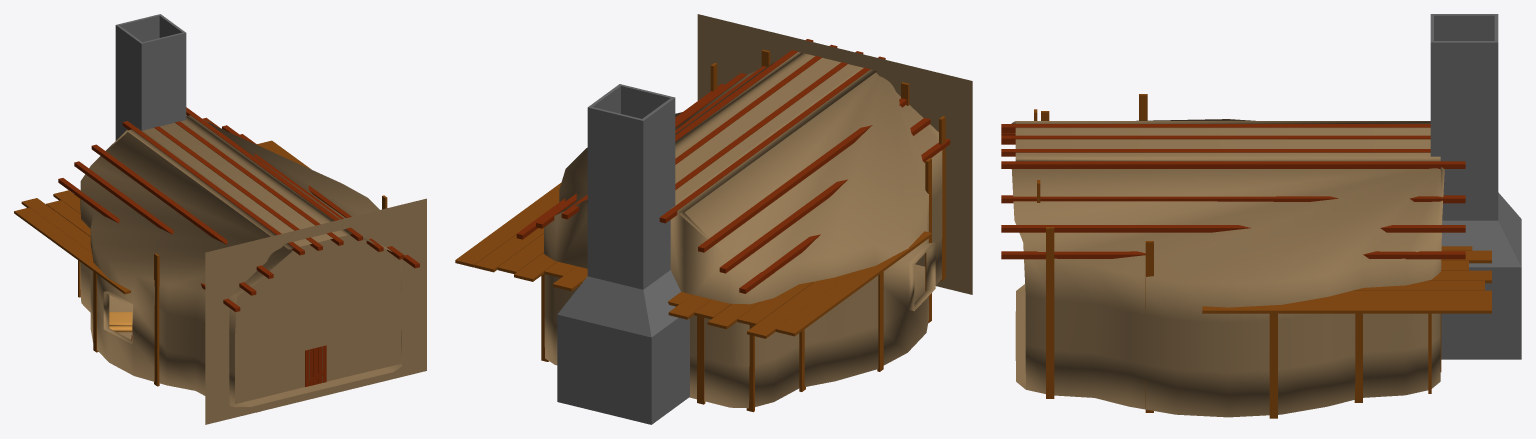
File: Maison_Bertie_Intérieur.fbx
3 views of the same model, side by side, from view 1: azimuth 30°, elevation 25°; view 2: azimuth 150°, elevation 25°; view 3: azimuth 270°, elevation 25° (orthographic). The views are drawn at different scales.
Visible parts, largest first — view 1: Murs, Murs.001, Cube, Porte.038, Porte.015, Porte.016, Porte.007, Porte.037, Porte.018, Porte.012, Porte.013, Porte.047 (+4 smaller); view 2: Murs, Cube, Murs.001, Porte.038, Porte.022, Porte.015, Porte.037, Porte.016, Porte.018, Porte.012, Porte.021, Porte.013 (+16 smaller); view 3: Murs, Cube, Porte.007, Porte.022, Porte.019, Porte.014, Porte.012, Porte.020, Porte.016, Porte.013, Porte.023, Porte.049 (+4 smaller).
Part boxes in pixels (<box>): Murs: <box>80,115,401,407</box>; Murs.001: <box>205,198,426,424</box>; Cube: <box>115,14,186,140</box>; Porte.038: <box>14,207,130,294</box>; Porte.015: <box>91,144,273,278</box>; Porte.016: <box>122,121,304,255</box>; Porte.007: <box>186,107,362,241</box>; Porte.037: <box>21,198,91,252</box>; Porte.018: <box>74,161,256,295</box>; Porte.012: <box>154,126,322,250</box>; Porte.013: <box>175,121,343,245</box>; Porte.047: <box>154,253,159,386</box>; Murs: <box>543,52,942,408</box>; Cube: <box>557,84,689,424</box>; Murs.001: <box>697,14,972,294</box>; Porte.038: <box>775,231,931,336</box>; Porte.022: <box>455,183,561,267</box>; Porte.015: <box>698,98,907,252</box>; Porte.037: <box>747,272,852,338</box>; Porte.016: <box>659,56,885,223</box>; Porte.018: <box>719,117,930,273</box>; Porte.012: <box>675,51,863,189</box>; Porte.021: <box>739,138,950,293</box>; Porte.013: <box>675,44,837,164</box>; Murs: <box>1011,119,1444,417</box>; Cube: <box>1430,14,1521,359</box>; Porte.007: <box>1001,161,1465,168</box>; Porte.022: <box>1202,300,1491,313</box>; Porte.019: <box>1001,225,1465,232</box>; Porte.014: <box>1001,195,1465,203</box>; Porte.012: <box>1001,135,1430,143</box>; Porte.020: <box>1001,251,1465,259</box>; Porte.016: <box>1001,124,1430,131</box>; Porte.013: <box>1001,149,1430,156</box>; Porte.023: <box>1307,290,1491,300</box>; Porte.049: <box>1046,227,1054,398</box>.
Bounding box in the file's own units: 1082 × 956 × 1383.
